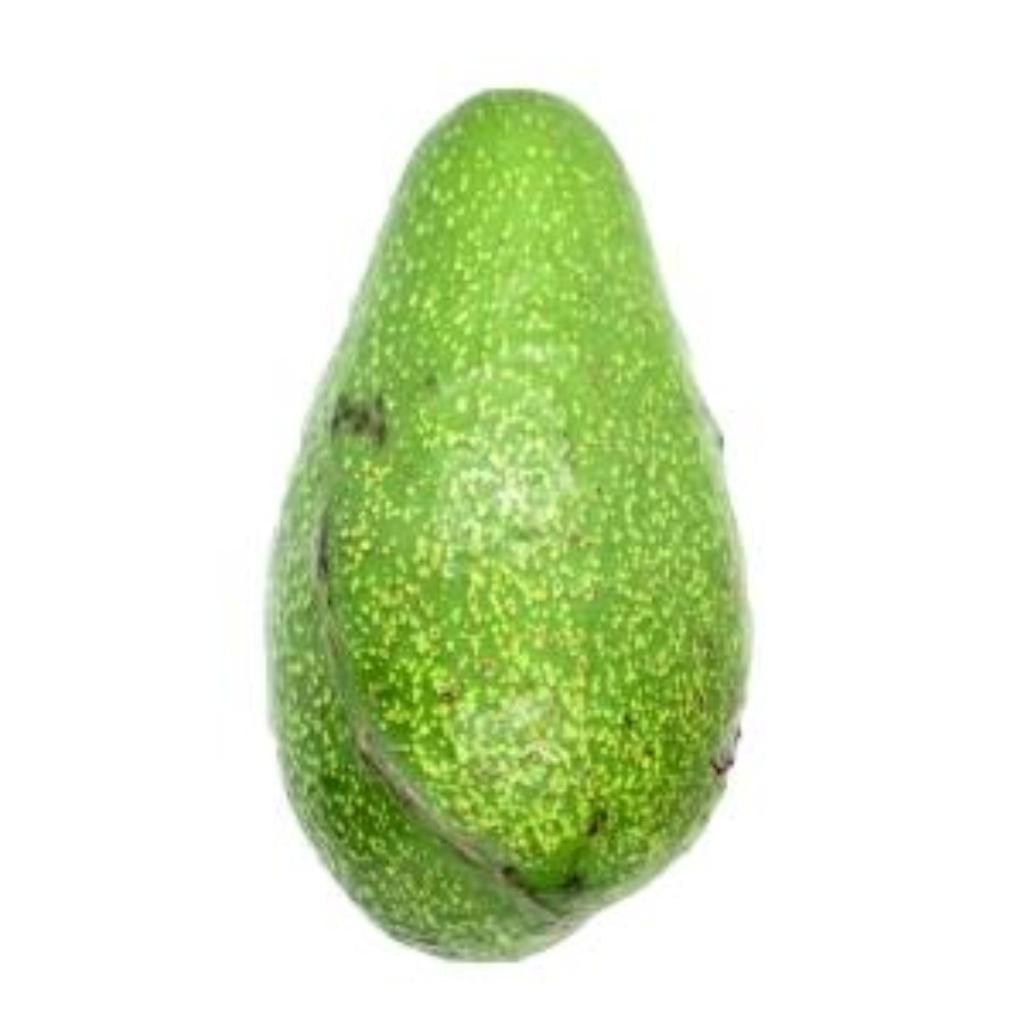cercospora: (267, 100, 761, 967)
